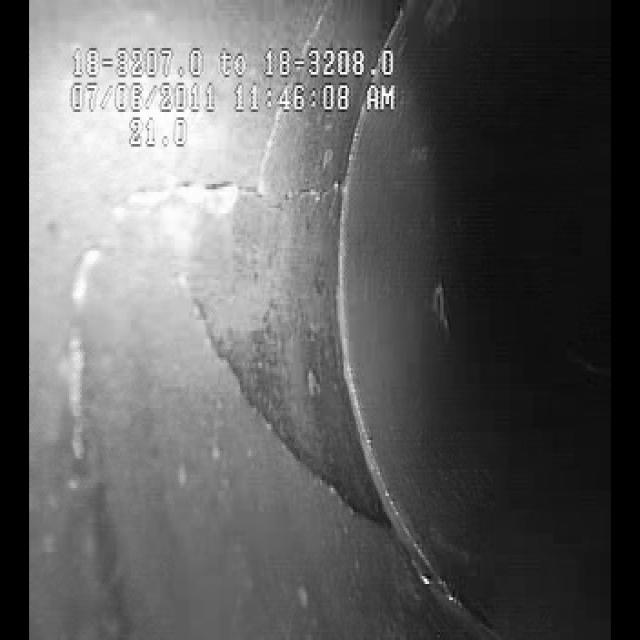Crack: (67, 155, 341, 469)
